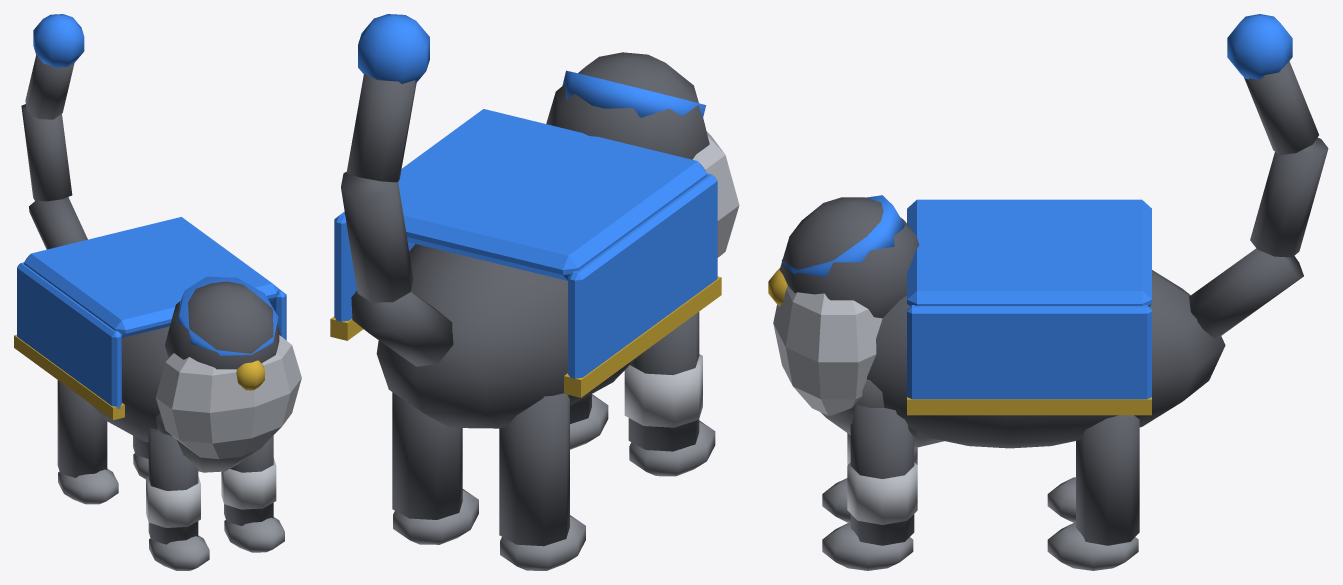
The model's file is pantoufle.glb.
3 renders of one model, left to right at view 1: azimuth 30°, elevation 25°; view 2: azimuth 150°, elevation 25°; view 3: azimuth 270°, elevation 25°, orthographic. The views are drawn at different scales.
Visible parts, largest first — view 1: caparison, breastplate, flap_L, tail, neck, body, limb_BL, limb_FL, tail_tip, greave_FL, greave_FR, paw_BL (+8 smaller); view 2: caparison, body, tail, flap_L, limb_BL, neck, limb_BR, greave_FL, limb_FL, tail_tip, trim_L, collar (+7 smaller); view 3: caparison, flap_R, body, tail, neck, breastplate, limb_BR, limb_FR, trim_R, greave_FR, tail_tip, paw_BR (+5 smaller).
Part boxes in pixels (x1,y1,x2,y2): caparison: [24, 217, 279, 337]; breastplate: [155, 335, 301, 459]; flap_L: [17, 262, 121, 409]; tail: [21, 55, 87, 249]; neck: [165, 281, 280, 369]; body: [88, 326, 169, 442]; limb_BL: [57, 380, 107, 477]; limb_FL: [148, 427, 198, 544]; tail_tip: [33, 14, 84, 67]; greave_FL: [146, 476, 200, 527]; greave_FR: [221, 458, 276, 509]; paw_BL: [58, 469, 118, 504]; caparison: [344, 109, 707, 280]; body: [376, 244, 638, 428]; tail: [341, 73, 453, 366]; flap_L: [568, 173, 717, 378]; limb_BL: [499, 393, 569, 546]; neck: [546, 52, 709, 159]; limb_BR: [392, 392, 462, 519]; greave_FL: [624, 354, 702, 427]; limb_FL: [628, 312, 699, 451]; tail_tip: [358, 14, 429, 83]; trim_L: [564, 276, 721, 397]; collar: [562, 70, 706, 118]; caparison: [907, 199, 1151, 306]; flap_R: [907, 305, 1151, 399]; body: [867, 270, 1225, 448]; tail: [1189, 61, 1328, 339]; neck: [779, 197, 919, 318]; breastplate: [773, 286, 882, 415]; limb_BR: [1076, 415, 1139, 545]; limb_FR: [850, 404, 914, 545]; trim_R: [907, 397, 1151, 415]; greave_FR: [847, 462, 917, 524]; tail_tip: [1227, 14, 1292, 79]; paw_BR: [1047, 522, 1138, 570].
Bounding box in the file's own units: 0.515 × 1.19 × 1.14.
